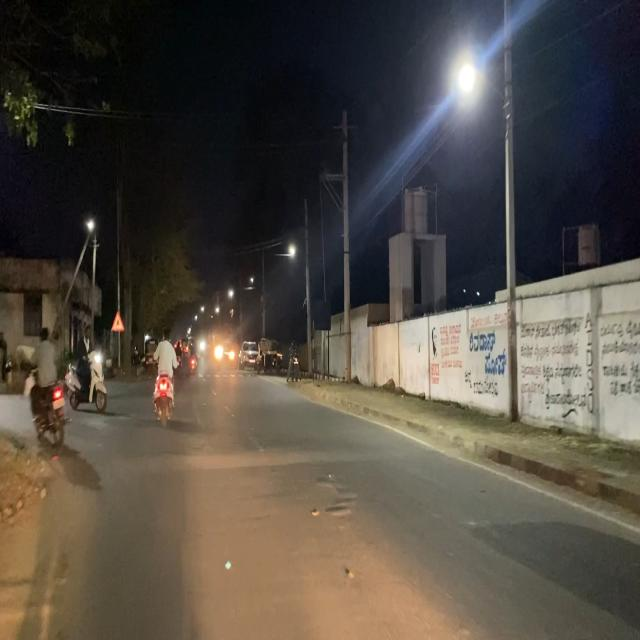bien_cam: (110, 307, 124, 334)
